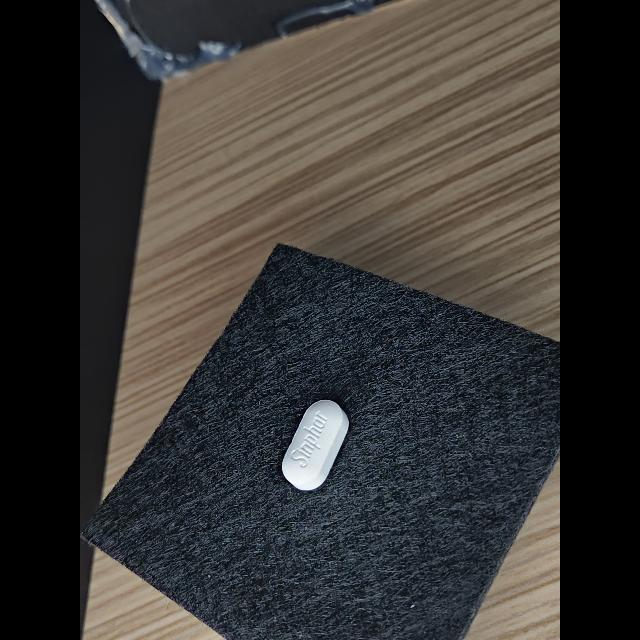Intact Pill: (282, 400, 349, 490)
